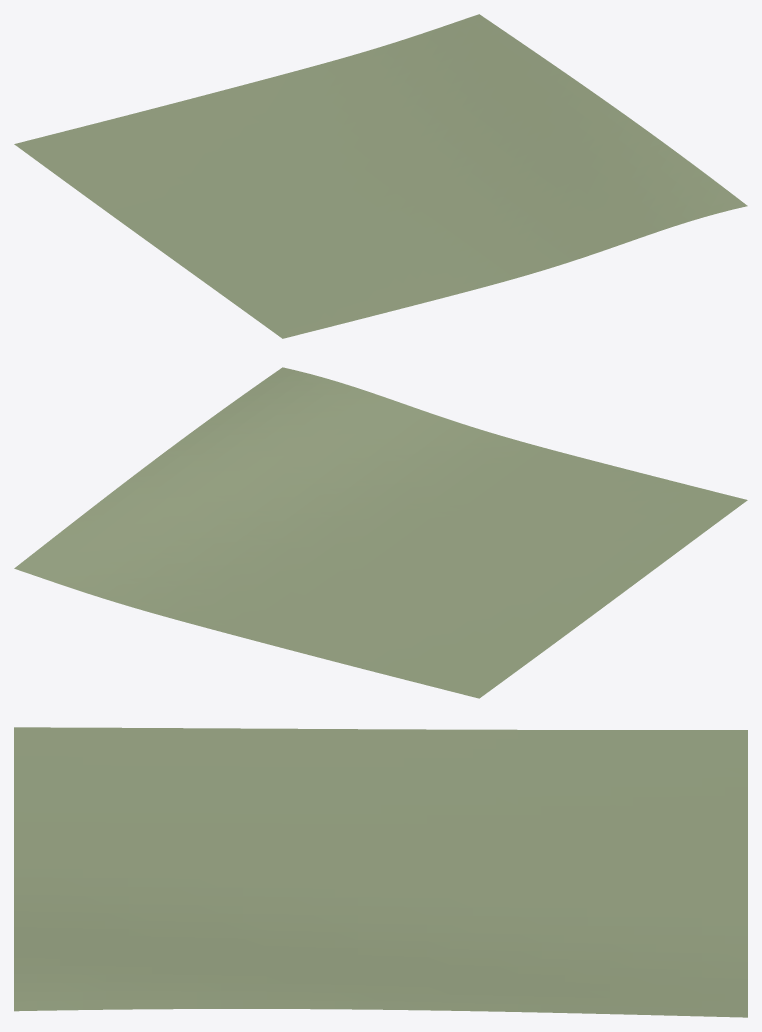
Rendered from desert-0-5.glb.
3 views of the same model, one above another, from view 1: azimuth 30°, elevation 25°; view 2: azimuth 150°, elevation 25°; view 3: azimuth 270°, elevation 25° (orthographic). The views are drawn at different scales.
Parts seen in each view (by area): view 1: desert-0-5; view 2: desert-0-5; view 3: desert-0-5.
Boxes of the visible parts, box(x1,y1,x2,y2) form: desert-0-5: box(14, 14, 747, 338); desert-0-5: box(14, 367, 747, 698); desert-0-5: box(14, 727, 747, 1017).
Size of the model in its own units: 512 by 24.09 by 512.
